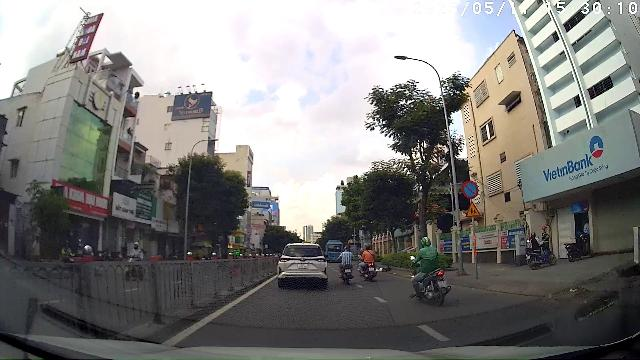131a-cam-do-xe: (462, 180, 479, 199)
